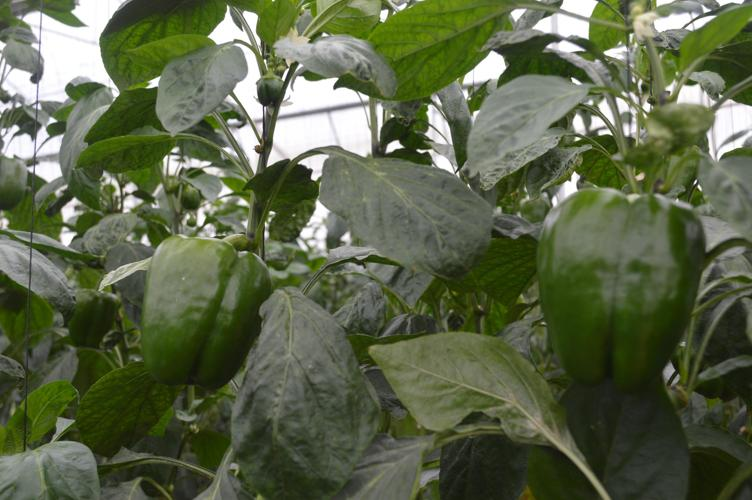BellPepper: (535, 187, 701, 390), (138, 232, 272, 385)
